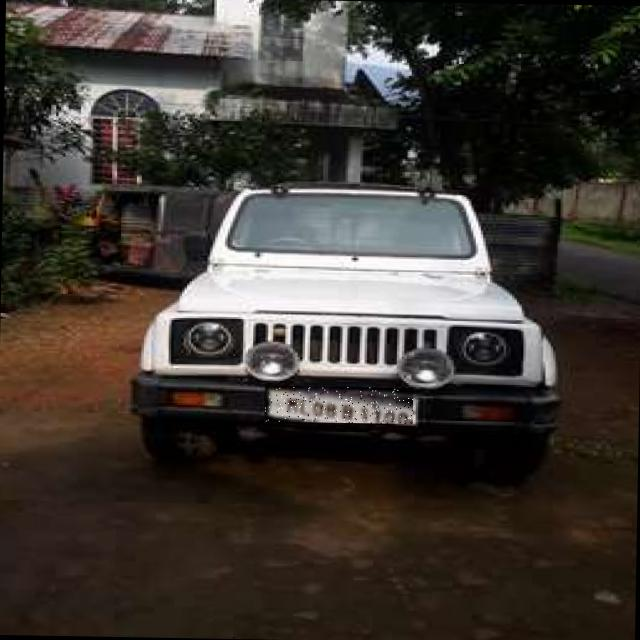Plate: (265, 386, 414, 425)
